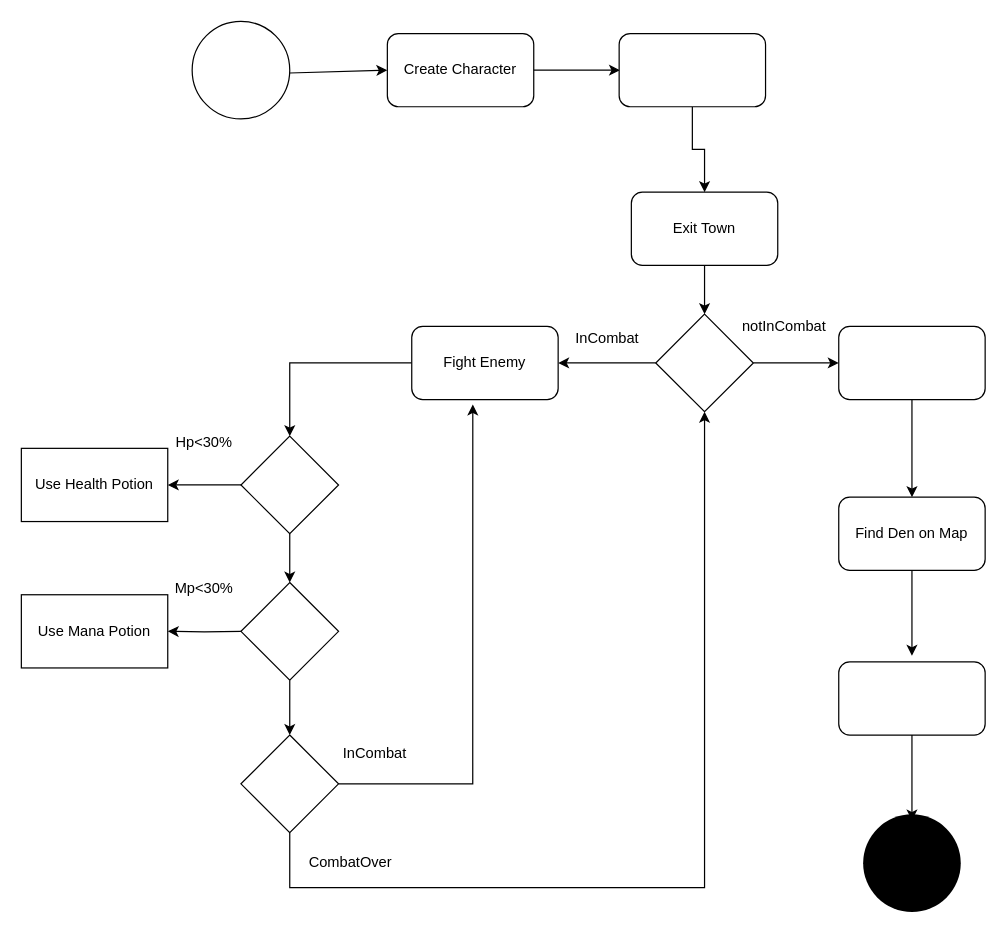
The diagram is 1007 pixels wide and 933 high, and some of its shapes have lost their labels. The centre of each missing label's shape, as x and y in pixels:
"Arrive at Entrance" belongs at (x=911, y=698).
"Identify bridge" belongs at (x=692, y=69).
"Search for Den on Map" belongs at (x=911, y=362).
